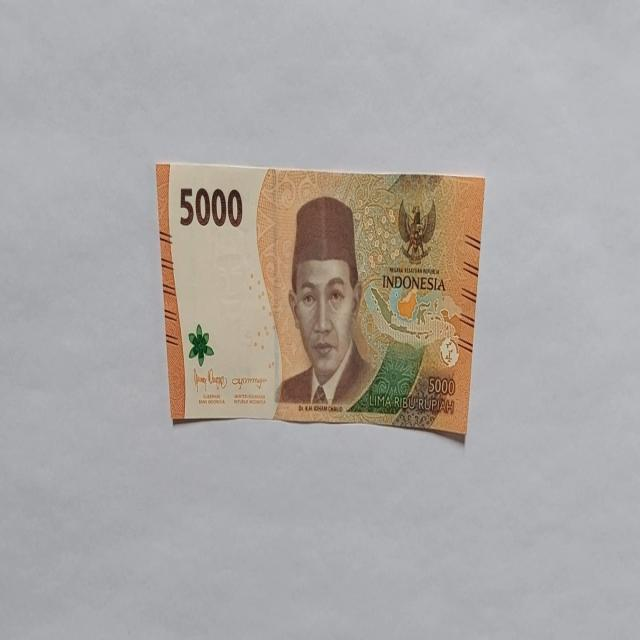lima ribu rupiah: (154, 160, 486, 440), (274, 194, 375, 410)
